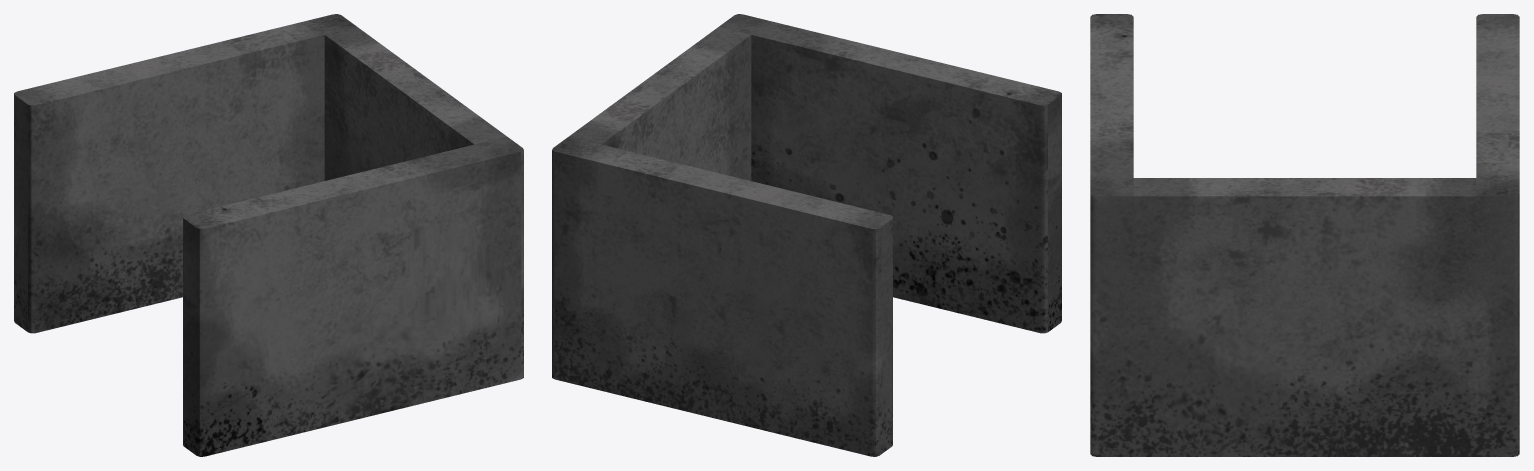
Rendered from MR_Deadend_L_Tex.fbx.
3 renders of one model, left to right at view 1: azimuth 30°, elevation 25°; view 2: azimuth 150°, elevation 25°; view 3: azimuth 270°, elevation 25°, orthographic. The views are drawn at different scales.
Parts seen in each view (by area): view 1: pasted__M_Wall_Single; view 2: pasted__M_Wall_Single; view 3: pasted__M_Wall_Single.
Part boxes in pixels (x1=…): pasted__M_Wall_Single: x1=14, y1=14, x2=523, y2=456; pasted__M_Wall_Single: x1=552, y1=14, x2=1061, y2=456; pasted__M_Wall_Single: x1=1090, y1=14, x2=1519, y2=456.
Bounding box in the file's own units: 150 × 100 × 149.
Materials: 1 (1 with a texture image).
